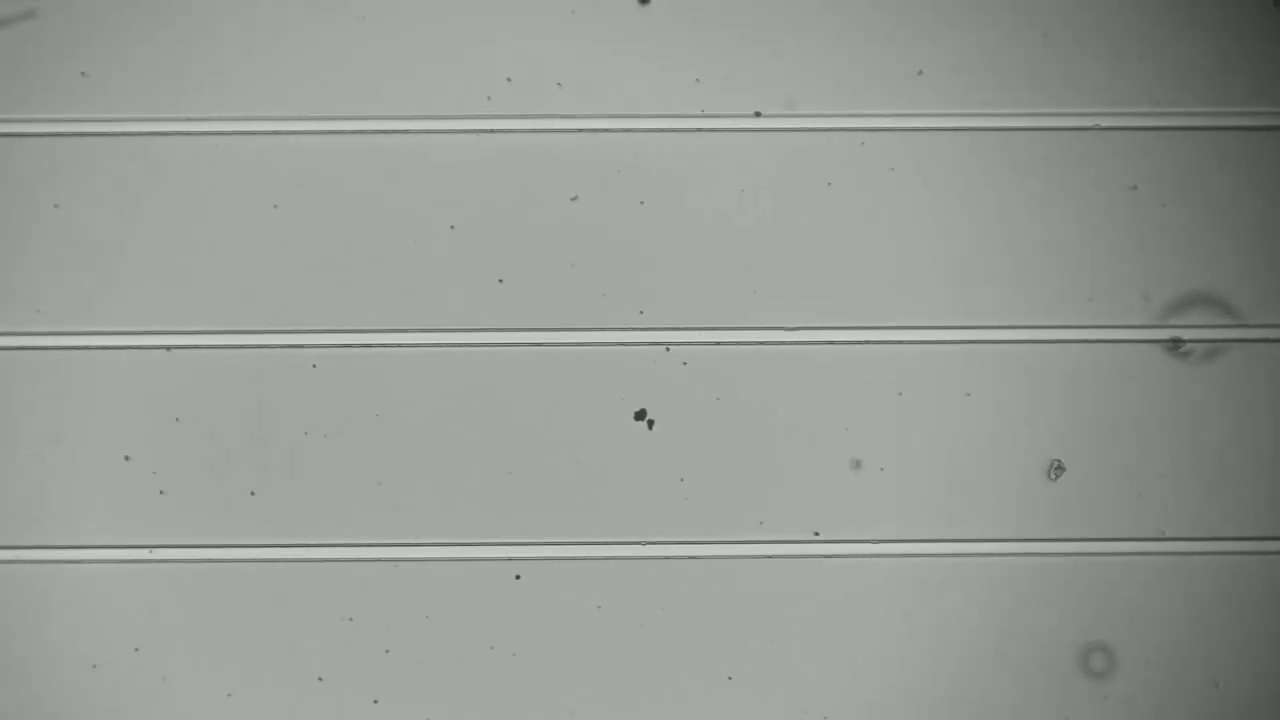stains_enbedded: (1160, 315, 1195, 360)
